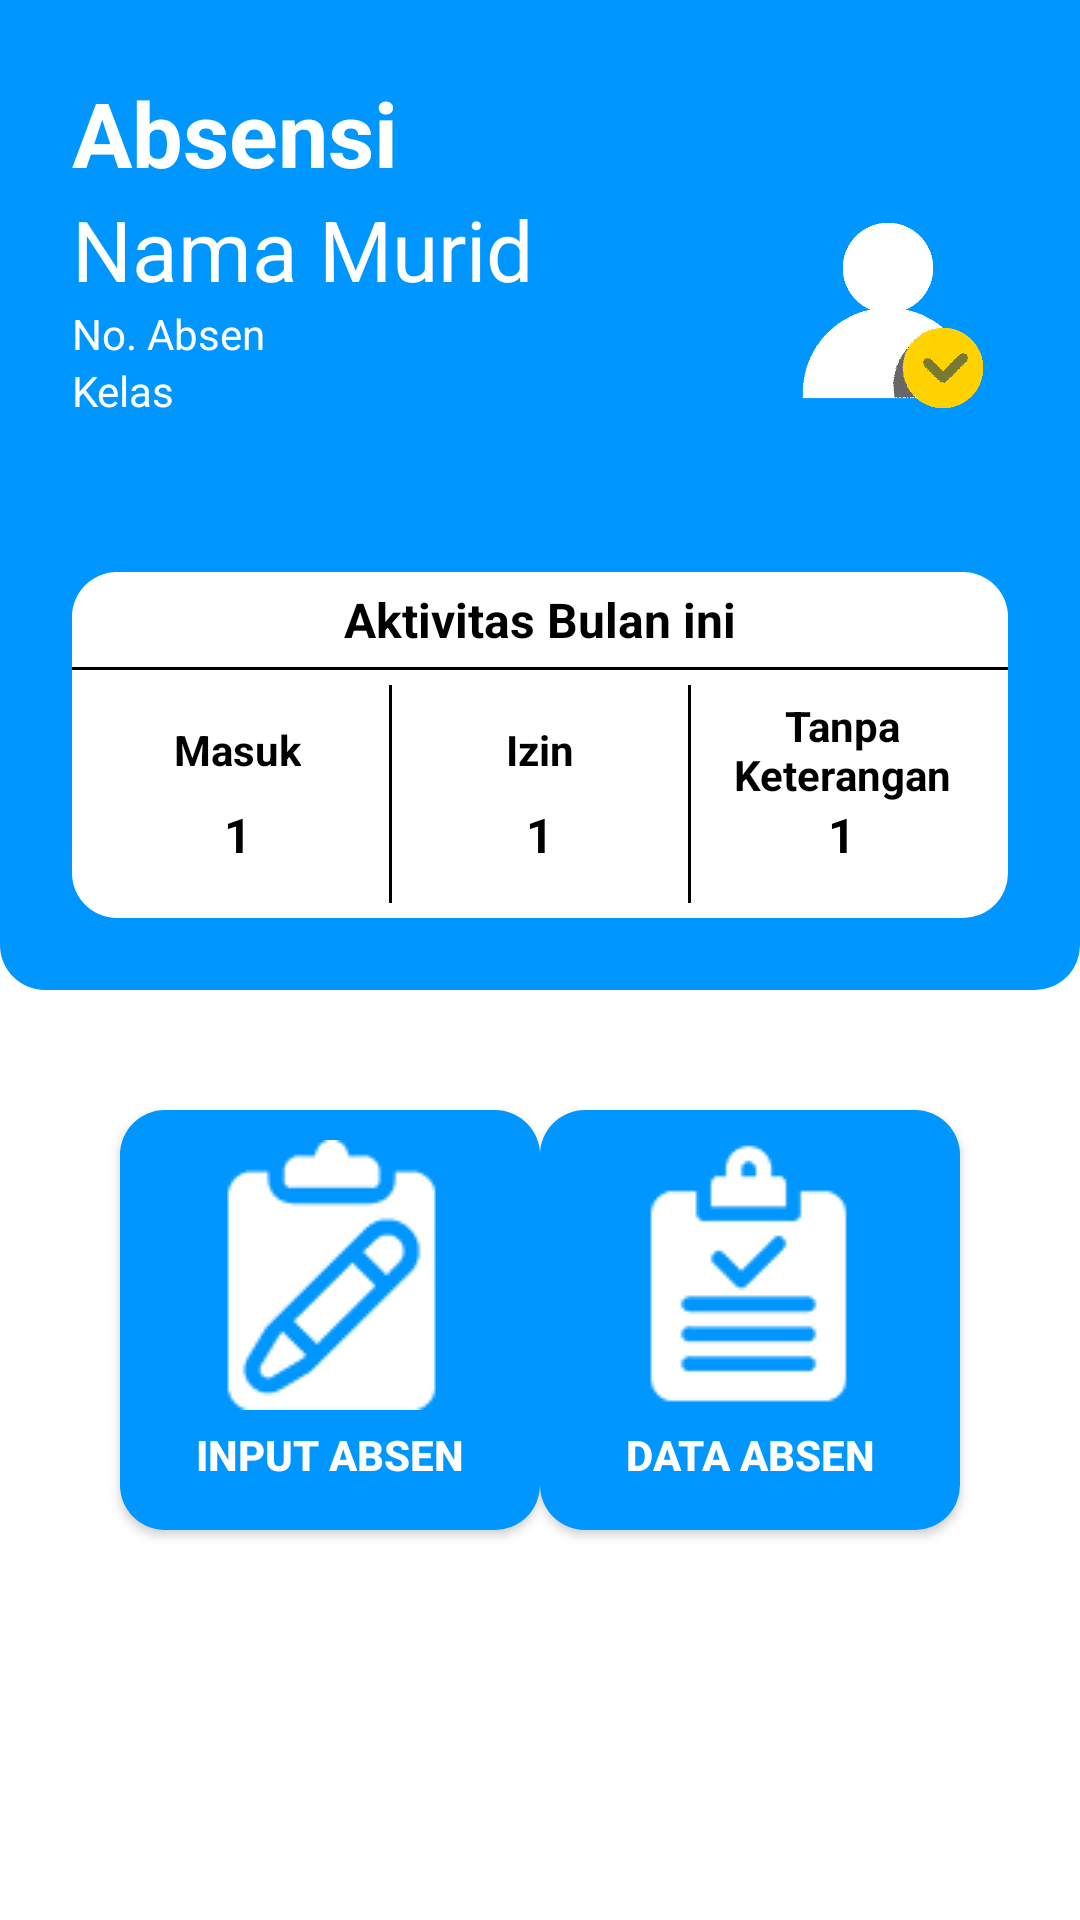

Point at icon controls on the screen. Image size 1080 x 1920, points as (x,y).
people: (892,315)
